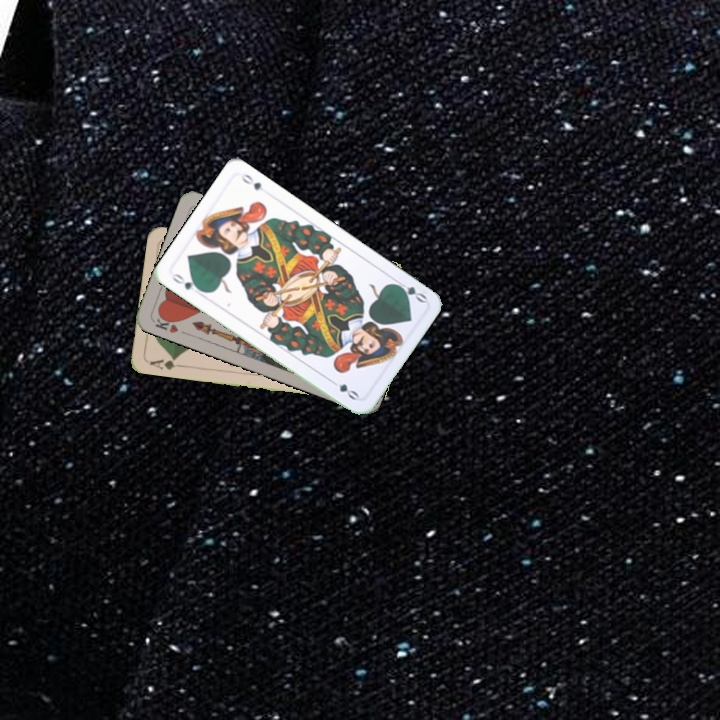GA: (146, 353, 186, 373)
GO: (390, 276, 429, 305), (167, 269, 205, 294)
HK: (151, 311, 181, 336)
